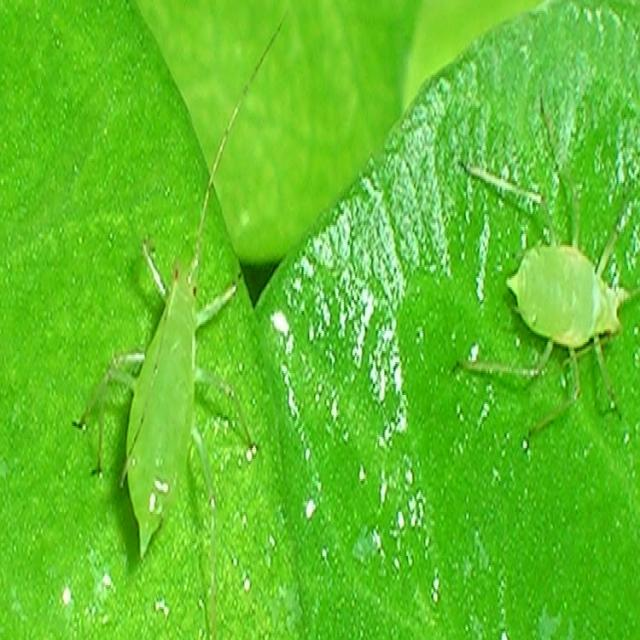Aphid-Grown-: (80, 178, 254, 578), (460, 166, 632, 425)
